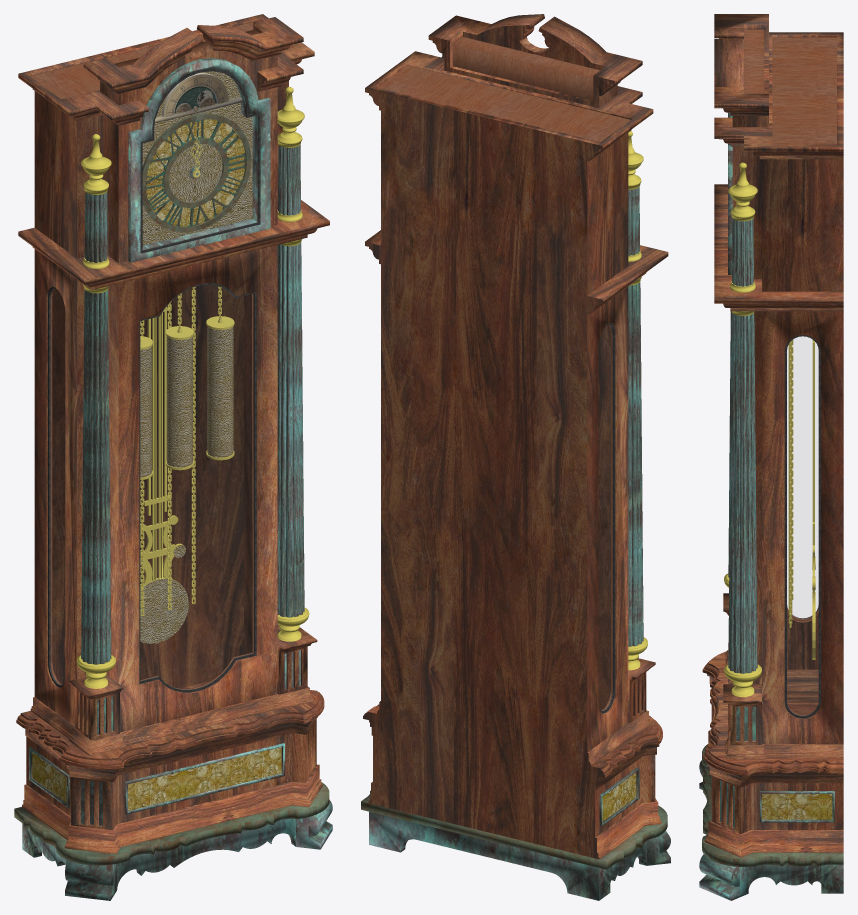
Rendered from long_case_grandfather_clock.glb.
3 views of the same model, side by side, from view 1: azimuth 30°, elevation 25°; view 2: azimuth 150°, elevation 25°; view 3: azimuth 270°, elevation 25° (orthographic). The views are drawn at different scales.
Parts seen in each view (by area): view 1: Material2 (×12); view 2: Material2 (×8); view 3: Material2 (×9), Material3.
Boxes of the visible parts, x1=… form: Material2 (×12): x1=14, y1=14, x2=332, y2=900; Material2 (×8): x1=361, y1=14, x2=670, y2=900; Material2 (×9): x1=699, y1=14, x2=843, y2=900; Material3: x1=787, y1=337, x2=817, y2=618.
Size of the model in its own units: 25.85 by 76.78 by 12.53.
Materials: 21 (13 with a texture image).
